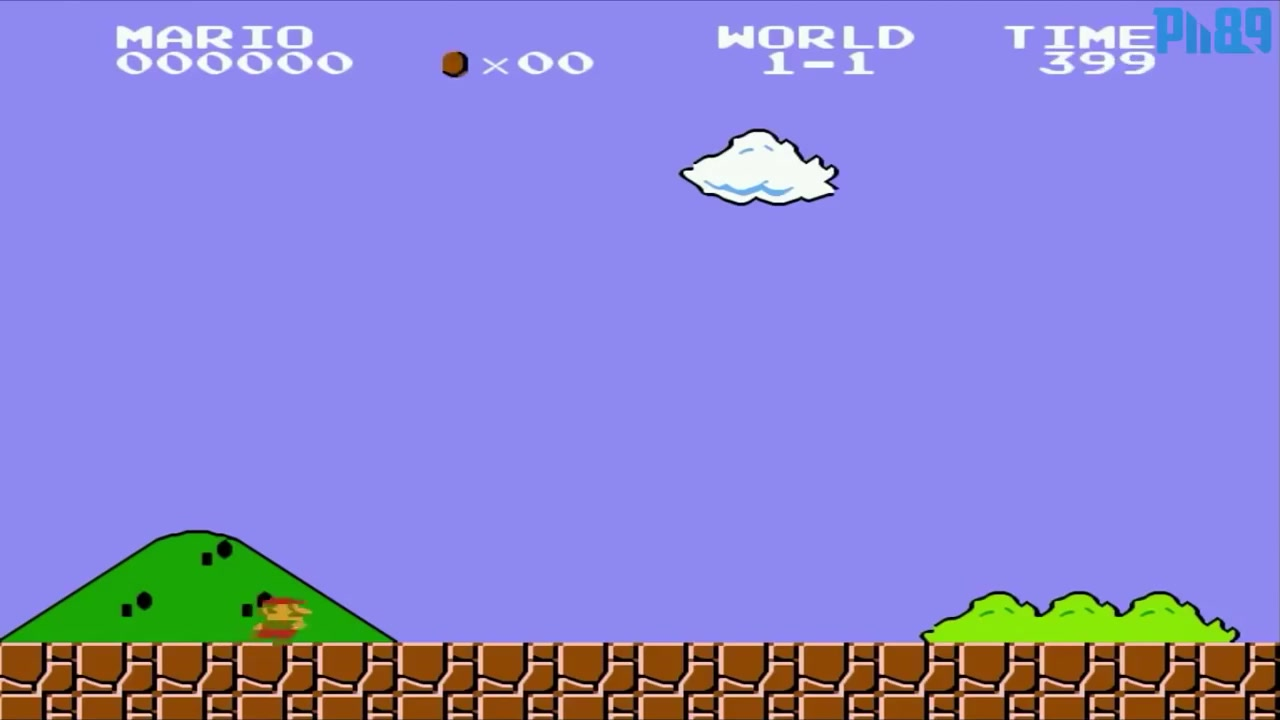mario: (239, 587, 325, 646)
